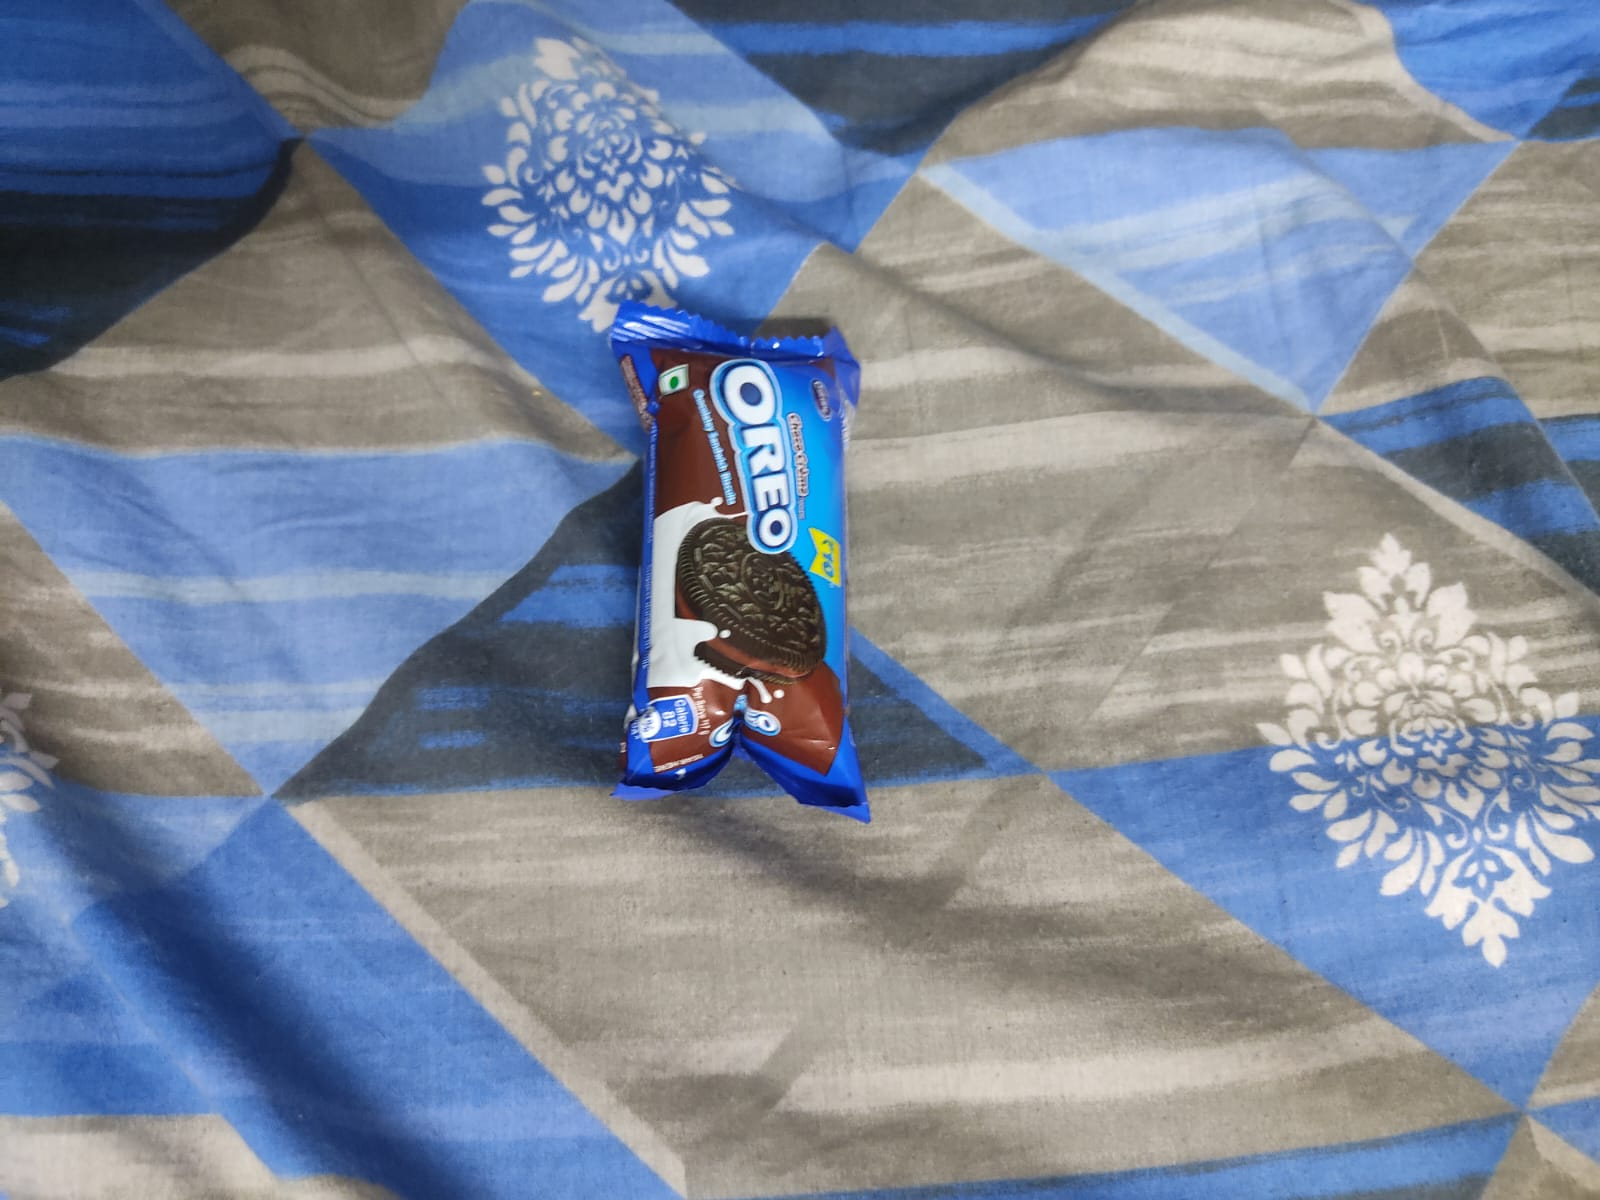010_Oreos: (630, 340, 855, 779)
